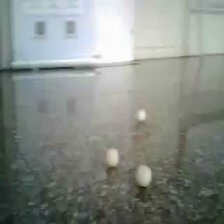tennis: (188, 78, 203, 99), (120, 63, 134, 83), (199, 60, 212, 77)
